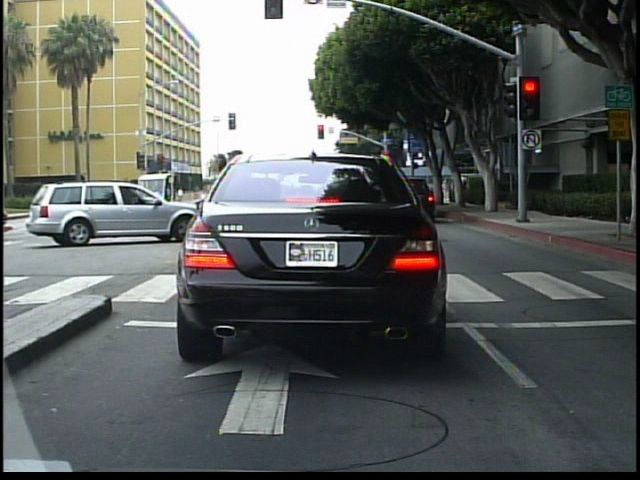person: (227, 147, 267, 284), (202, 145, 233, 283), (443, 176, 453, 207)
